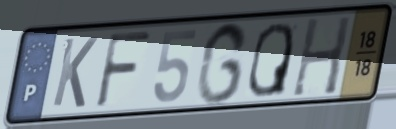5: (150, 26, 200, 105)
F: (92, 29, 154, 111)
G: (193, 19, 251, 107)
H: (289, 13, 354, 100)
K: (49, 35, 100, 110)
Q: (245, 20, 296, 100)
